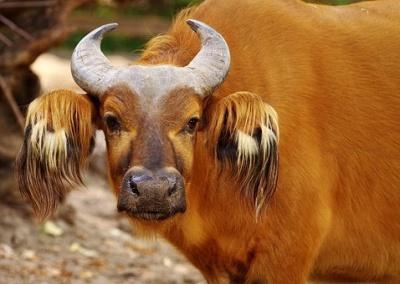buffalo: (17, 0, 399, 283)
